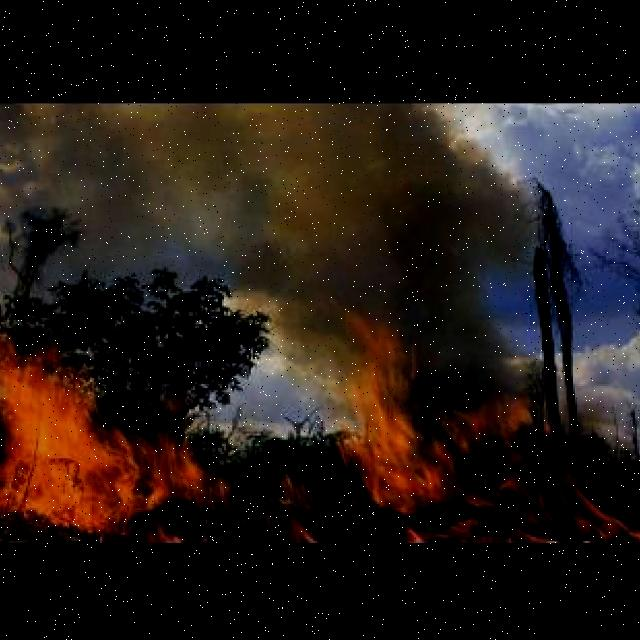fire: (342, 322, 618, 541), (0, 312, 220, 541), (269, 467, 319, 537)
